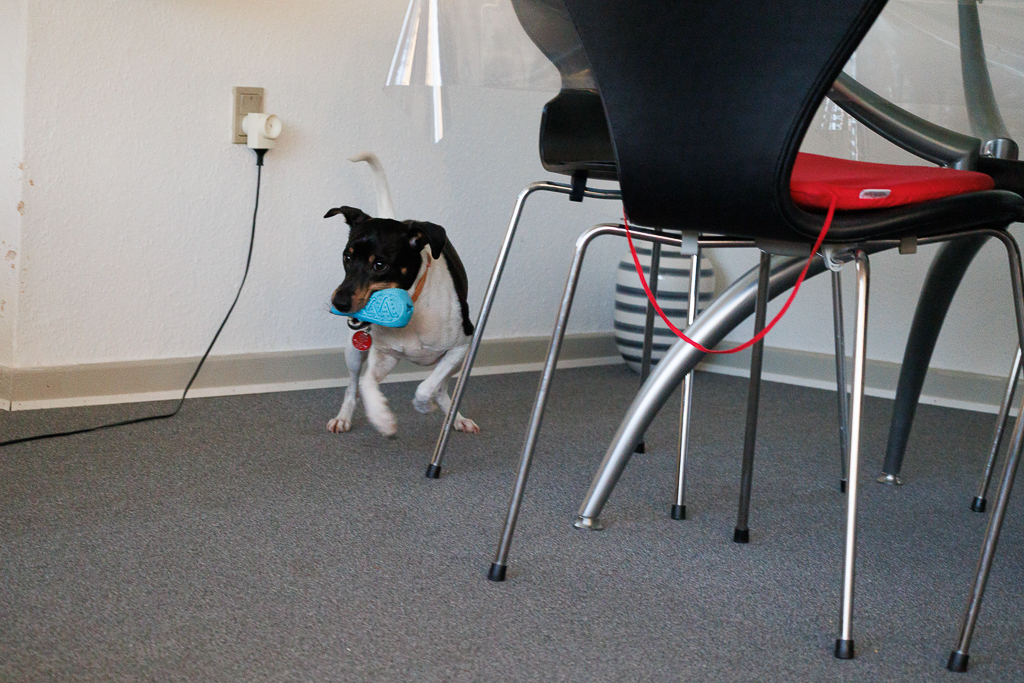Dog: (310, 144, 493, 444)
